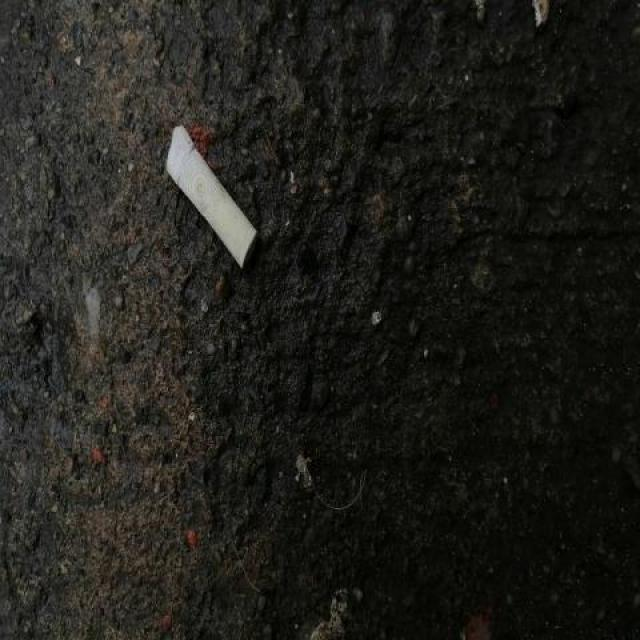non-organic waste: (161, 120, 263, 280)
